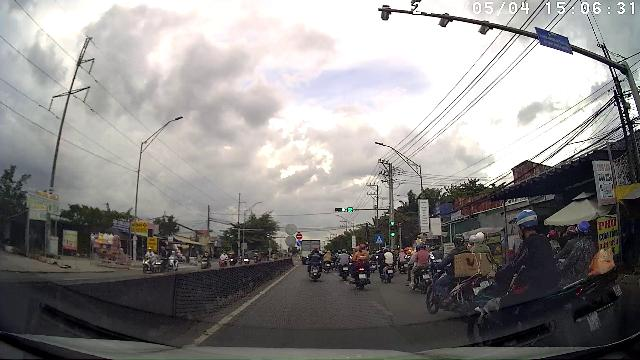102-cam-di-nguoc-chieu: (296, 233, 302, 239)
302a-huong-phai-di-vong-chuong-ngai-vat-1: (296, 240, 302, 246)
423a-duong-nguoi-di-bo-sang-ngang-1: (375, 234, 383, 243)
